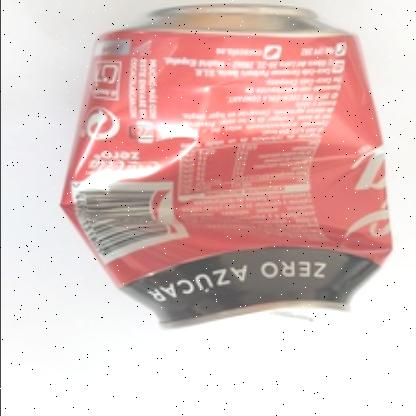Can: (56, 5, 393, 331)
